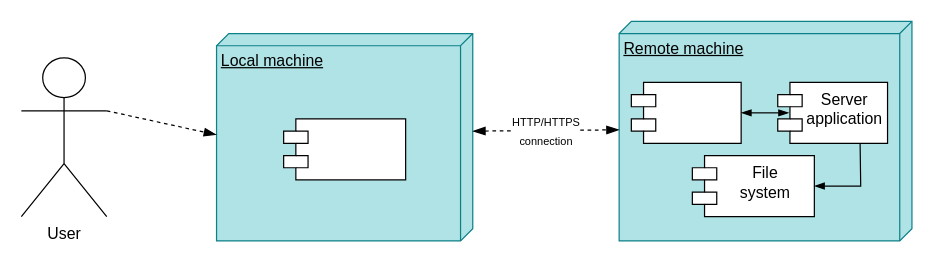
The diagram is 933 pixels wide and 266 high, and some of its shapes have lost their labels. The centre of each missing label's shape, as x and y in pixels:
"Web client" goes at (x=344, y=149).
"Web interface" goes at (x=685, y=112).
